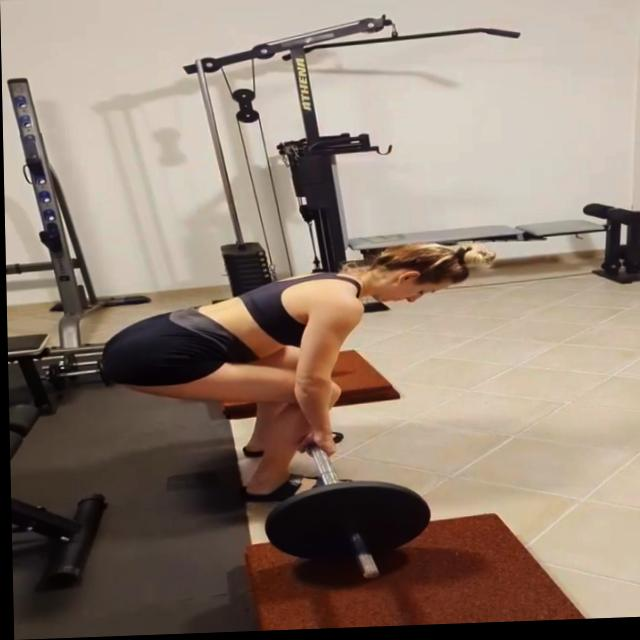barbell: (259, 479, 434, 592)
